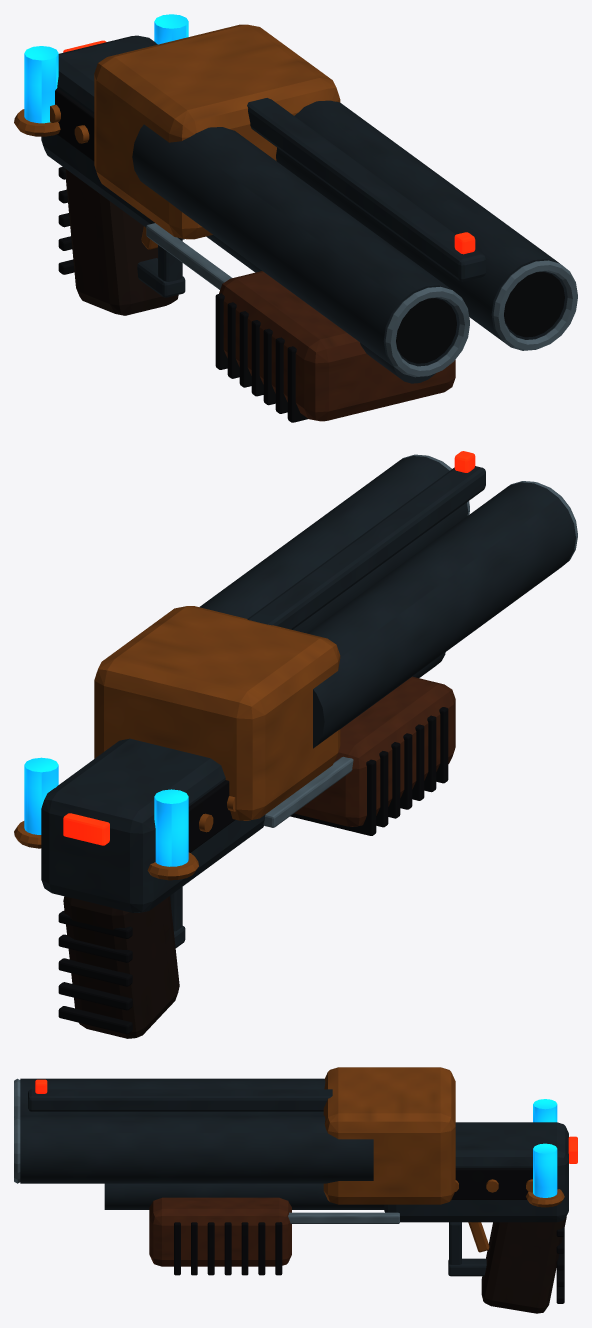
Rendered from pickup_shotgun.glb.
3 renders of one model, top to bottom at view 1: azimuth 30°, elevation 25°; view 2: azimuth 150°, elevation 25°; view 3: azimuth 270°, elevation 25°, orthographic. The views are drawn at different scales.
Visible parts, largest first — view 1: weapon, pump; view 2: weapon, pump; view 3: weapon, pump.
Boxes of the visible parts, x1,y1,x2,y2 form: weapon: [14, 14, 577, 383]; pump: [146, 223, 455, 422]; weapon: [14, 451, 577, 1038]; pump: [263, 676, 455, 835]; weapon: [14, 1067, 577, 1313]; pump: [149, 1197, 399, 1275].
Bounding box in the file's own units: 0.296 × 0.4705 × 1.07.
Materials: 8 (8 with a texture image).
